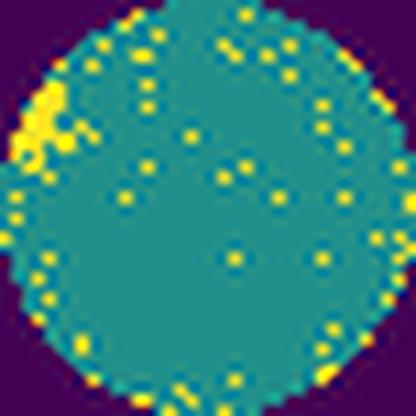Edge-Loc: (0, 72, 89, 180)
